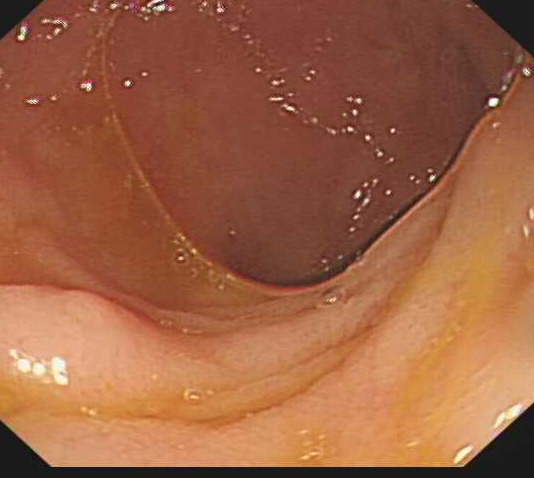others: (1, 283, 207, 404)
